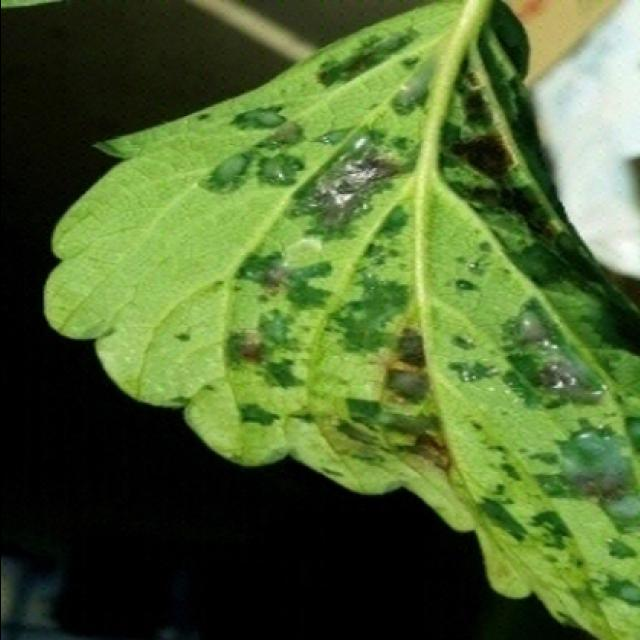Angular Leafspot: (45, 0, 640, 638)
